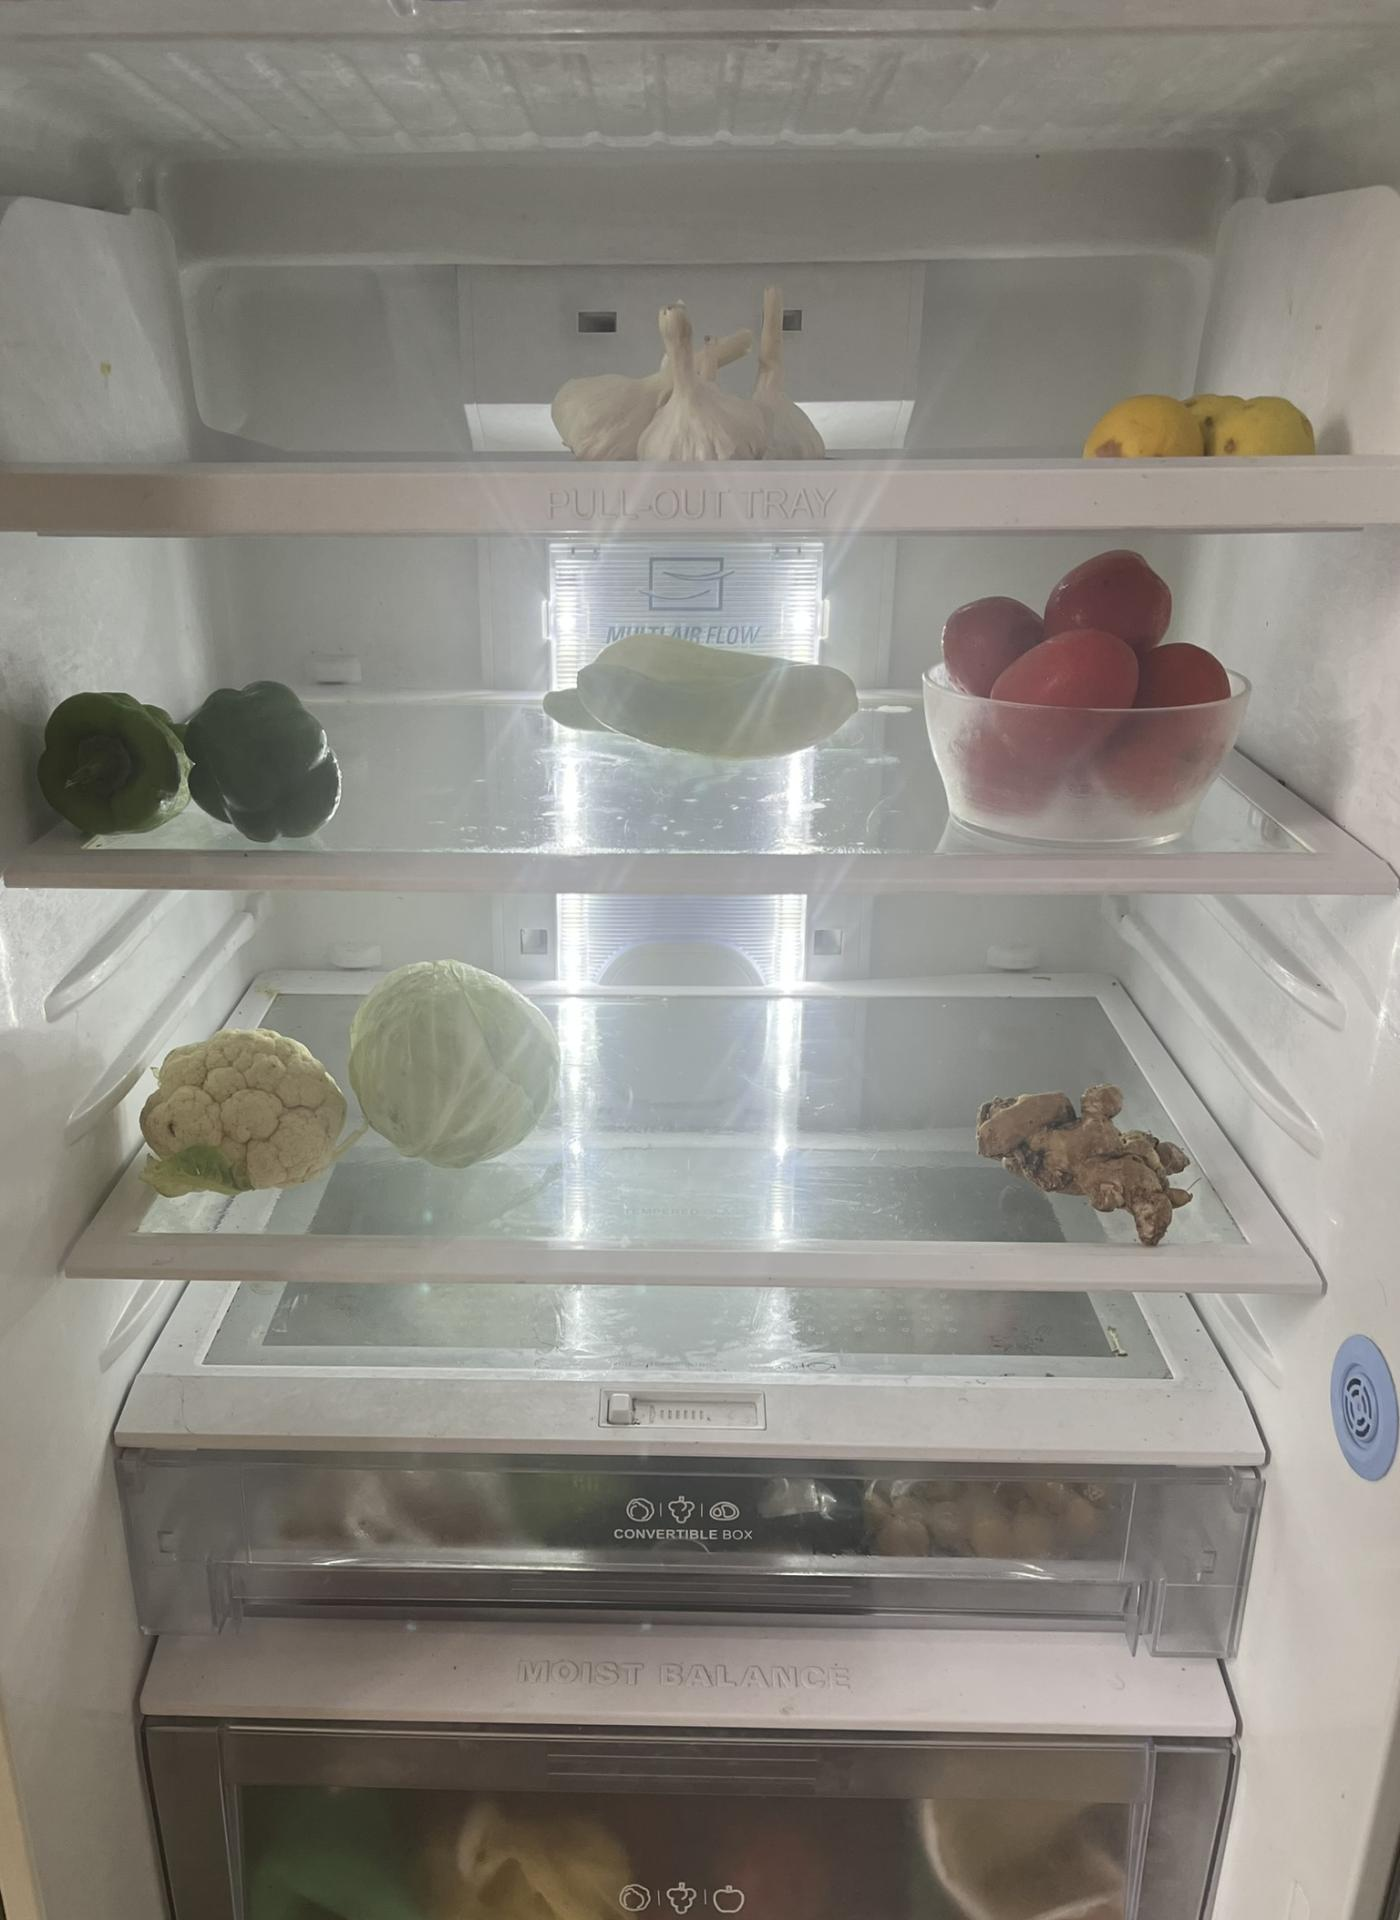cabbage: (349, 957, 559, 1160)
capsicum: (40, 686, 349, 838)
cauliflower: (134, 1027, 344, 1185)
cucumber: (541, 628, 869, 760)
garlic: (552, 273, 830, 462)
ginger: (978, 1081, 1202, 1240)
lemon: (1075, 388, 1318, 459)
tomato: (941, 547, 1232, 814)
